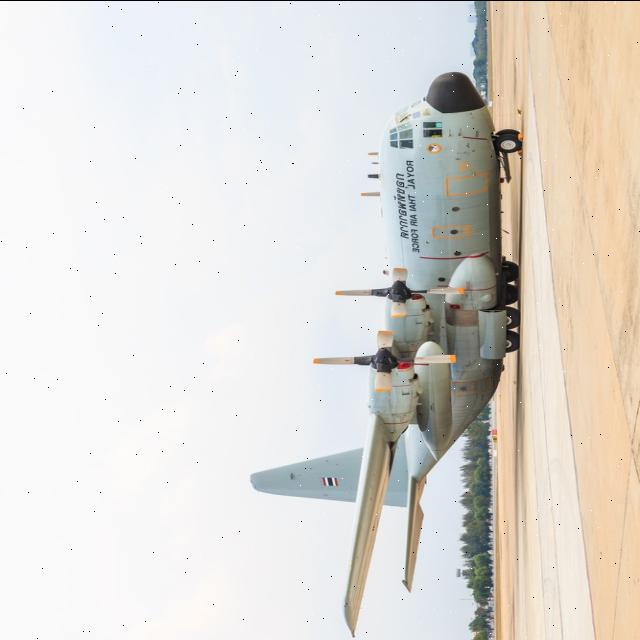C130: (234, 10, 536, 640)
